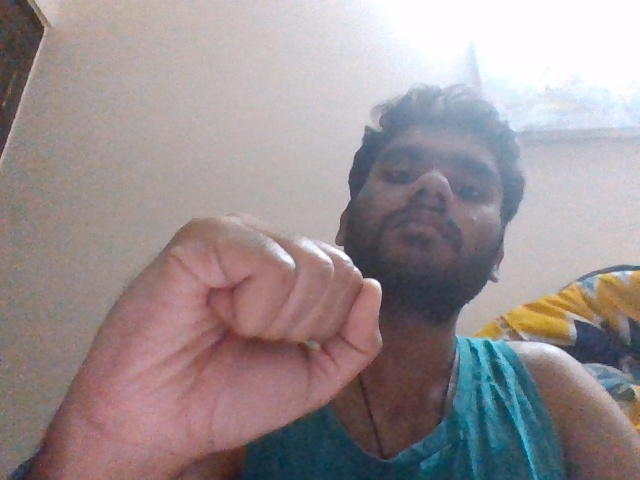yes: (52, 209, 390, 460)
